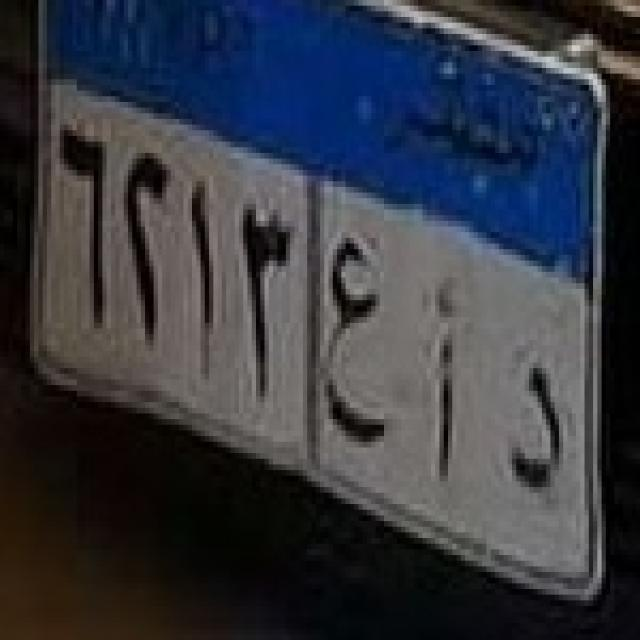1: (184, 169, 228, 350)
2: (116, 144, 179, 346)
3: (238, 200, 302, 406)
6: (53, 126, 121, 337)
Een: (310, 229, 400, 459)
alef: (416, 269, 474, 507)
daal: (502, 349, 570, 507)
